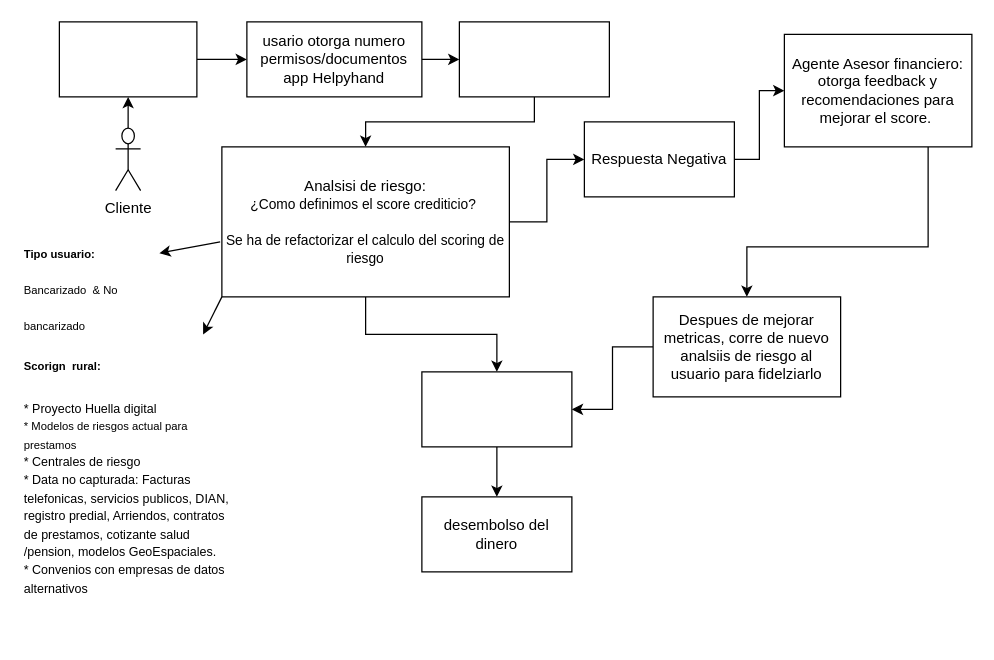
The diagram is 994 pixels wide and 660 high, and some of its shapes have lost their labels. Each missing label, with the box of its shape:
Agente riesgo Financiero: (458, 21, 609, 97)
Respuesta Postivia: (421, 371, 572, 447)
usuario requiere prestamo: (58, 21, 197, 97)
